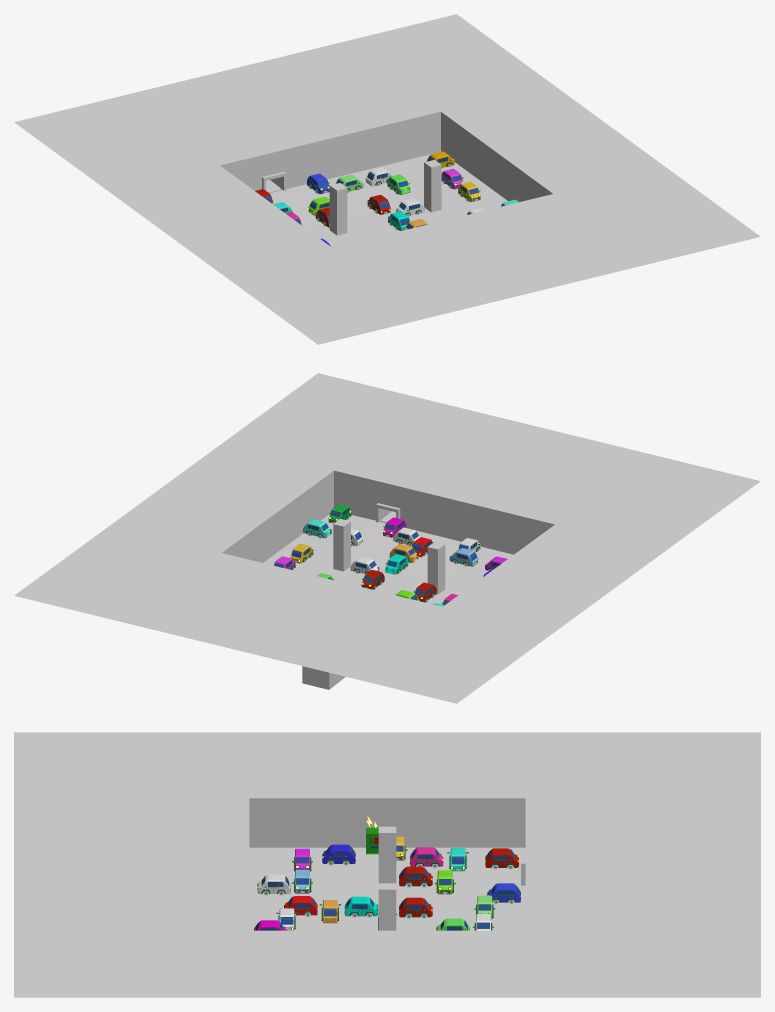
File: parking.fbx
3 views of the same model, one above another, from view 1: azimuth 30°, elevation 25°; view 2: azimuth 150°, elevation 25°; view 3: azimuth 270°, elevation 25° (orthographic). The views are drawn at different scales.
Parts seen in each view (by area): view 1: Parking; view 2: Parking; view 3: Parking, Kabrio.109, Kabrio.015, Kabrio.010.
Boxes of the visible parts, box(x1,y1,x2,y2) form: Parking: box(14, 14, 760, 344); Parking: box(14, 373, 760, 703); Parking: box(14, 732, 760, 997); Kabrio.109: box(345, 896, 378, 916); Kabrio.015: box(399, 897, 432, 917); Kabrio.010: box(399, 866, 432, 886).
Size of the model in its own units: 21310 by 2107 by 25351.
